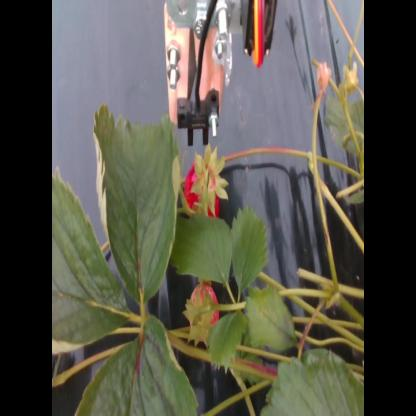ripe: (180, 150, 223, 224), (188, 282, 224, 344)
